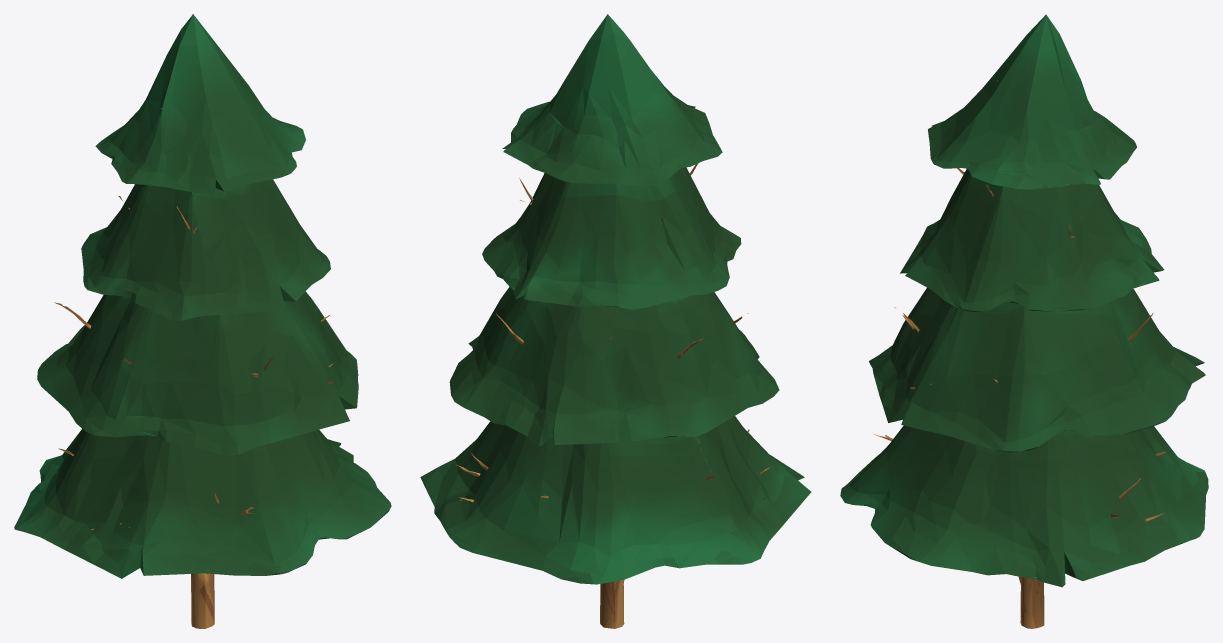
Rendered from new_tree(with leaves).fbx.
The picture shows the model from 3 angles, left to right: view 1: azimuth 30°, elevation 25°; view 2: azimuth 150°, elevation 25°; view 3: azimuth 270°, elevation 25°; orthographic projection.
Parts seen in each view (by area): view 1: leaves, tree; view 2: leaves, tree; view 3: leaves, tree.
Boxes of the visible parts, x1,y1,x2,y2 form: leaves: [14, 14, 391, 578]; tree: [54, 14, 333, 628]; leaves: [420, 15, 811, 584]; tree: [456, 14, 773, 628]; leaves: [840, 14, 1208, 587]; tree: [874, 80, 1166, 628].
Size of the model in its own units: 148 by 258 by 141.
